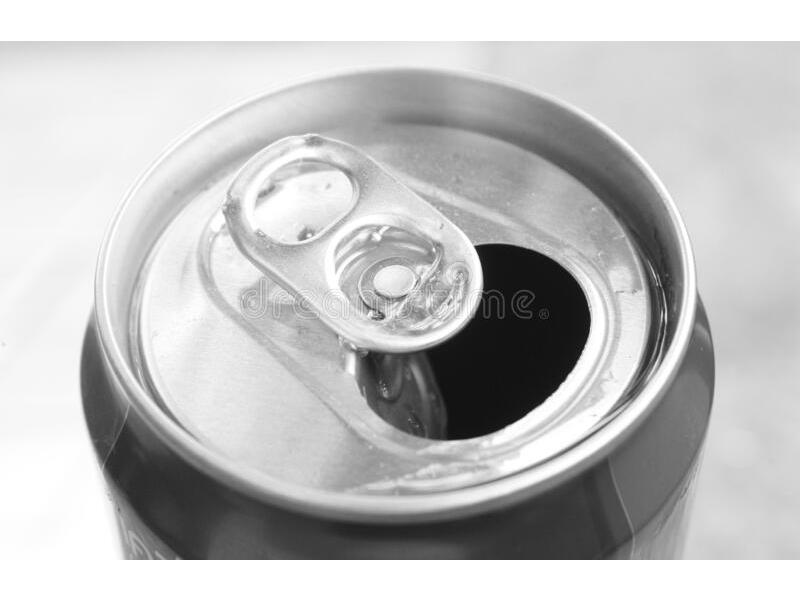can: (75, 56, 722, 564)
